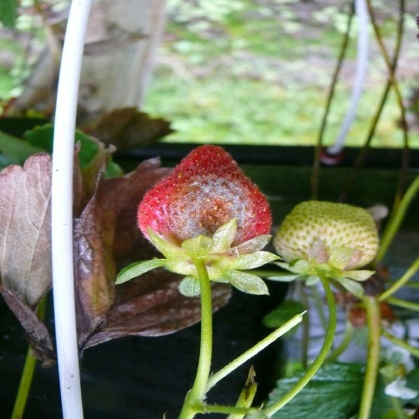Gray_Mold: (145, 162, 279, 263)
